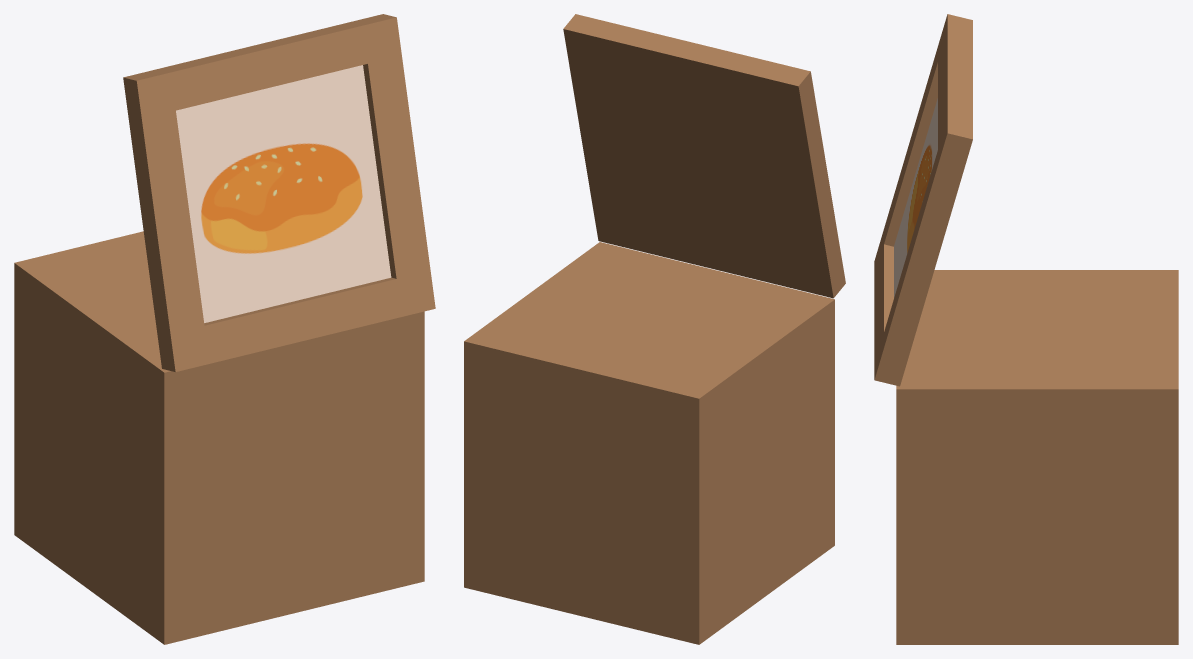
File: food_bread animation_opening.fbx
3 views of the same model, side by side, from view 1: azimuth 30°, elevation 25°; view 2: azimuth 150°, elevation 25°; view 3: azimuth 270°, elevation 25° (orthographic). The views are drawn at different scales.
Visible parts, largest first — view 1: Cube, Cube.001; view 2: Cube, Cube.001; view 3: Cube, Cube.001.
Boxes of the visible parts, <box> form: Cube: <box>14,231,424,644</box>; Cube.001: <box>123,14,435,371</box>; Cube: <box>464,242,834,644</box>; Cube.001: <box>563,14,845,298</box>; Cube: <box>896,270,1178,644</box>; Cube.001: <box>874,14,972,386</box>.
Size of the model in its own units: 200 by 400 by 215.
